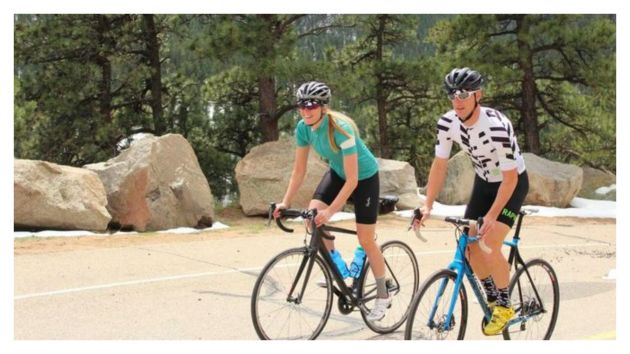with_helmet: (276, 81, 333, 112), (436, 68, 486, 93)
